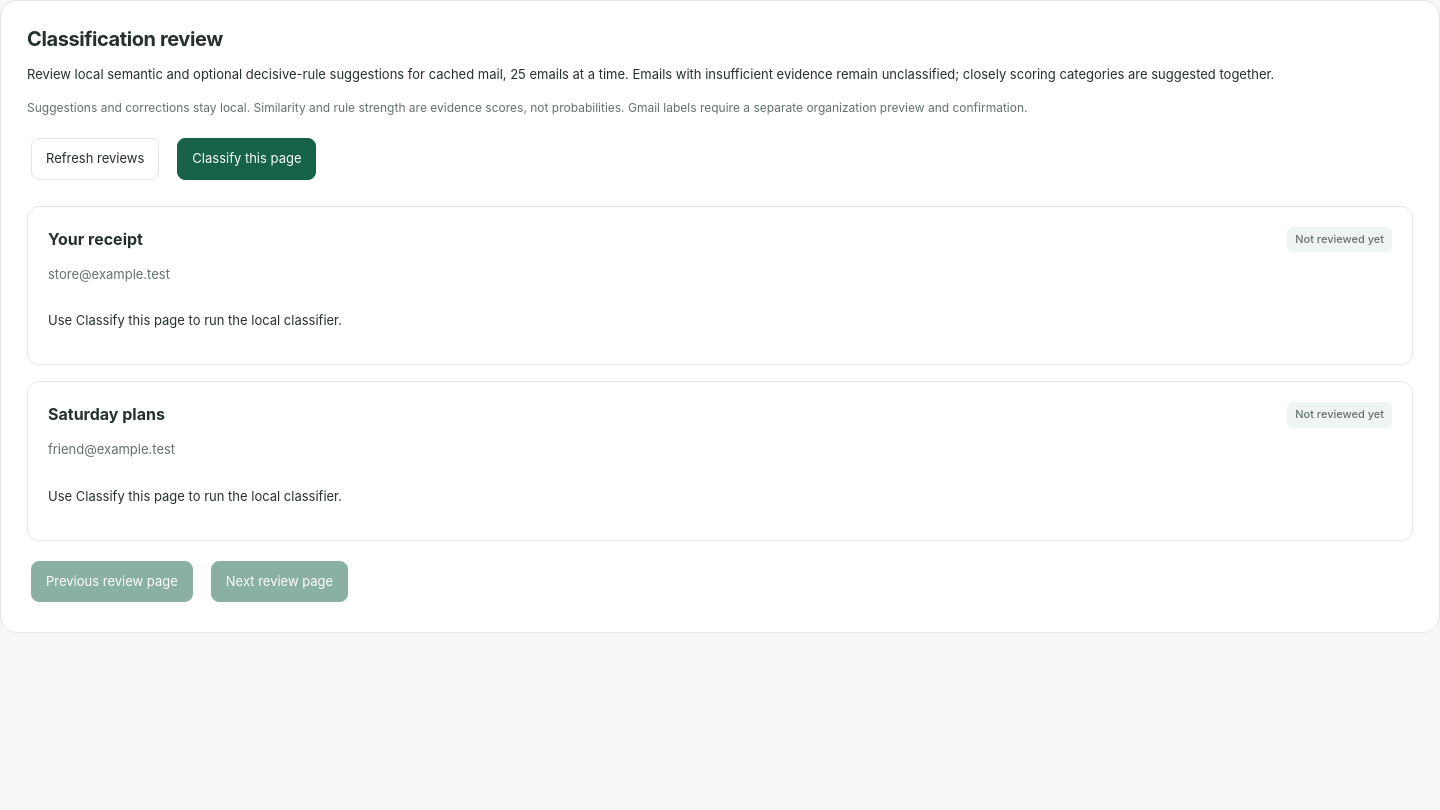
Test: loads saved reviews without classifying and runs only the requested cached page
Check: the heading "Your receipt" is shown, box [48, 229, 143, 249]
Check: the text "Not reviewed yet" is shown 2 times, box [1287, 227, 1392, 252]; [1287, 402, 1392, 428]
Click the button "Classify this page" at (247, 159), box [177, 138, 316, 180]
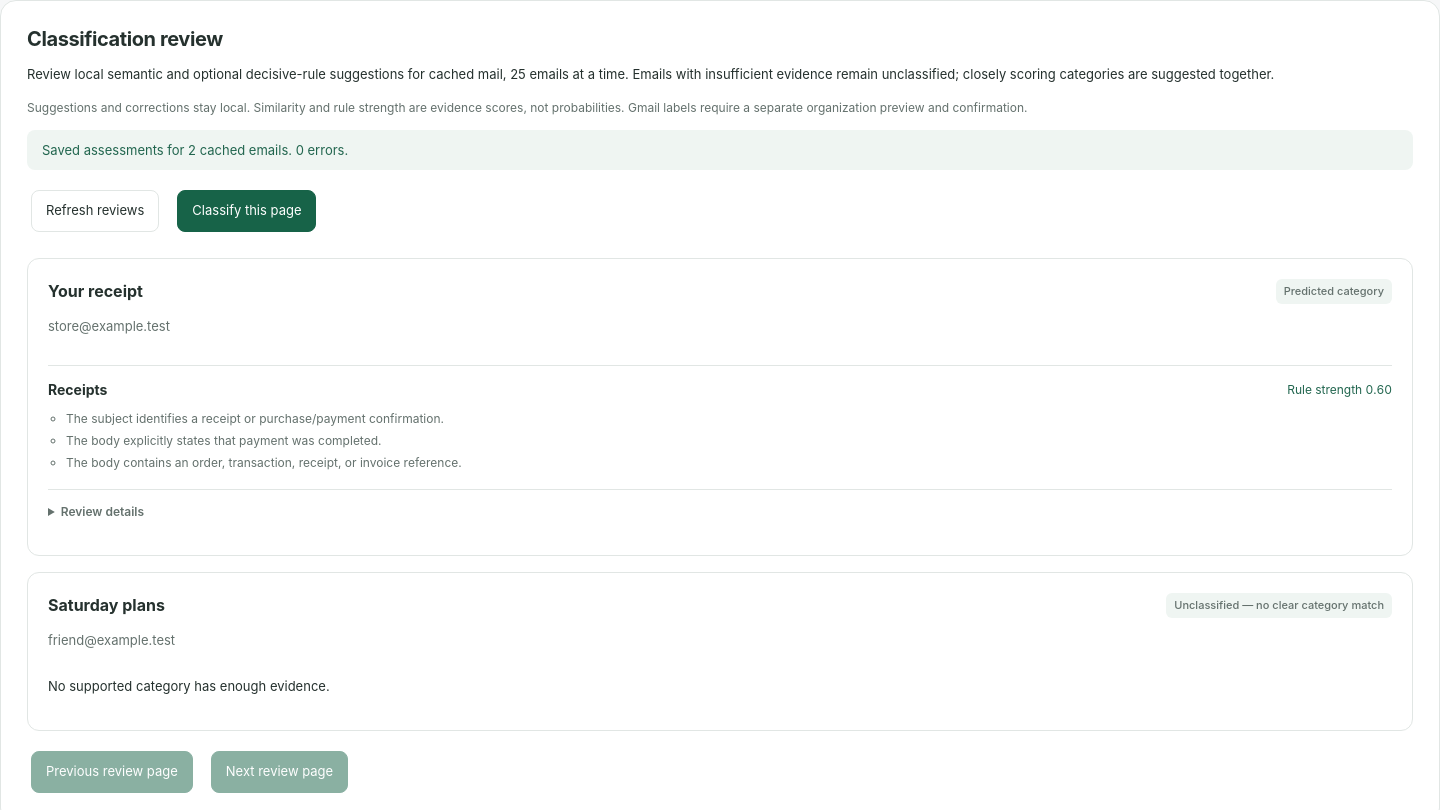
Check: the text "Rule strength 0.60" is shown, box [1287, 382, 1392, 397]
Check: the heading "Receipts" is shown, box [48, 381, 107, 398]
Check: the list item "The subject identifies a receipt or purchase/payment confirmation." is shown, box [66, 411, 444, 426]
